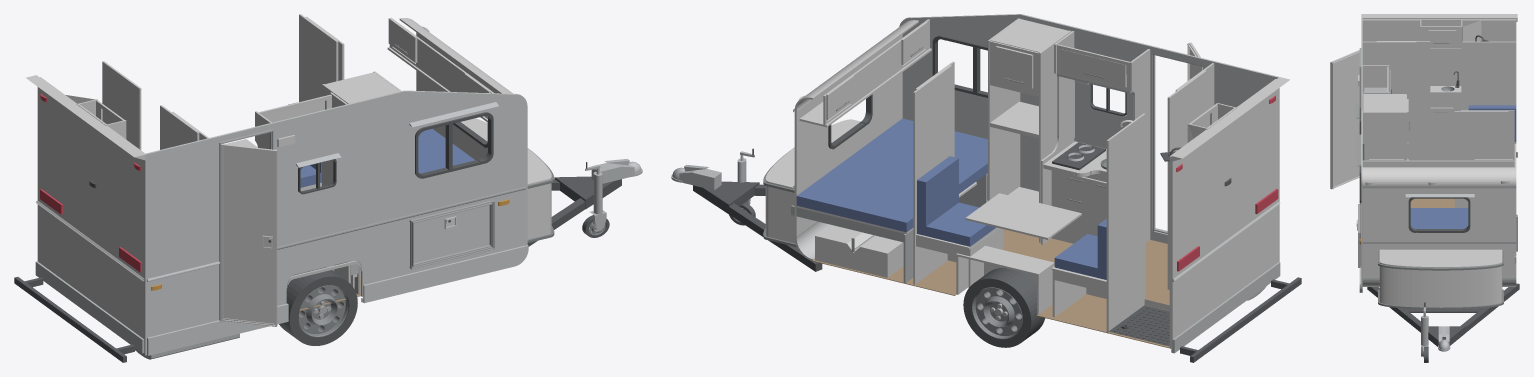
File: CORTE INTERIOR B .glb
3 views of the same model, side by side, from view 1: azimuth 30°, elevation 25°; view 2: azimuth 150°, elevation 25°; view 3: azimuth 270°, elevation 25° (orthographic). The views are drawn at different scales.
Visible parts, largest first — view 1: Mesh_Mesh_head_geo.001_lambert2SG.001; view 2: Mesh_Mesh_head_geo.001_lambert2SG.001; view 3: Mesh_Mesh_head_geo.001_lambert2SG.001.
Part boxes in pixels (x1,y1,x2,y2): Mesh_Mesh_head_geo.001_lambert2SG.001: (14, 14, 642, 362); Mesh_Mesh_head_geo.001_lambert2SG.001: (671, 14, 1301, 362); Mesh_Mesh_head_geo.001_lambert2SG.001: (1330, 14, 1519, 362).
Size of the model in its own units: 0.312 by 0.122 by 0.1232.
